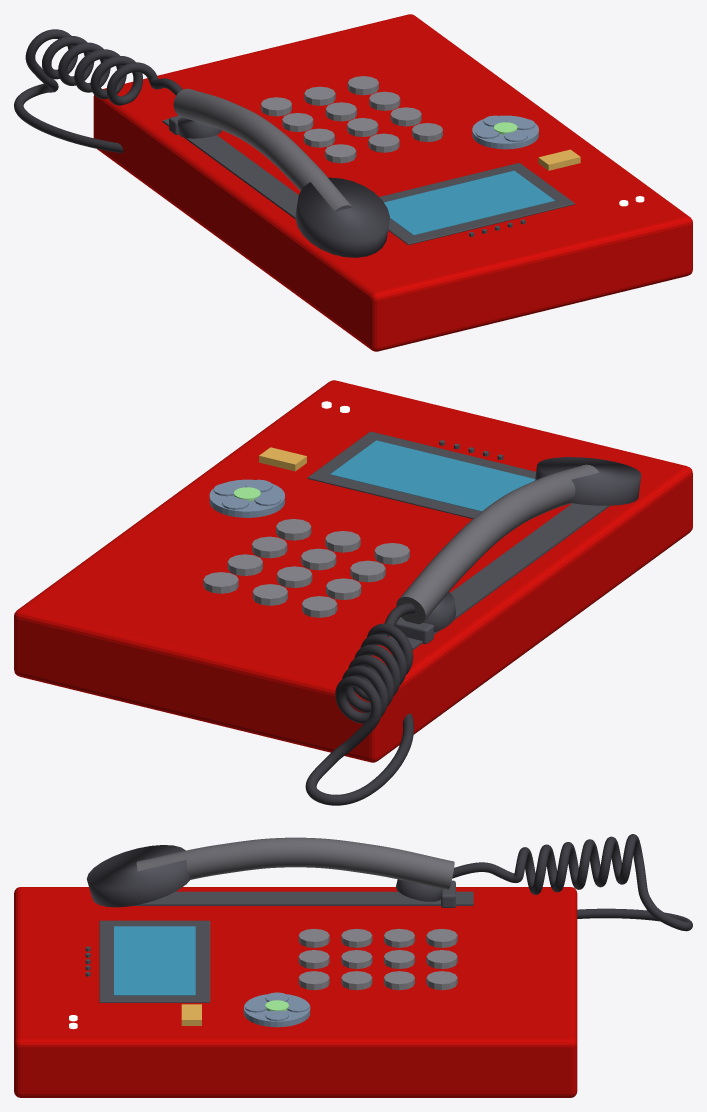
Rendered from telephone.fbx.
3 views of the same model, one above another, from view 1: azimuth 30°, elevation 25°; view 2: azimuth 150°, elevation 25°; view 3: azimuth 270°, elevation 25° (orthographic). The views are drawn at different scales.
Parts seen in each view (by area): view 1: Phone_Body, Phone_Cord, Screen, Handset_Body, Earpiece_Face, Screen_Bezel, Cradle_Channel, Nav_Ring, Mouthpiece_Face, Btn_Message, Key_#, Key_0 (+10 smaller); view 2: Phone_Body, Phone_Cord, Handset_Body, Screen, Cradle_Channel, Screen_Bezel, Earpiece_Face, Nav_Ring, Btn_Message, Mouthpiece_Face, Key_4, Key_* (+10 smaller); view 3: Phone_Body, Handset_Body, Phone_Cord, Screen, Earpiece_Face, Cradle_Channel, Screen_Bezel, Nav_Ring, Mouthpiece_Face, Key_4, Key_0, Key_1 (+10 smaller).
Part boxes in pixels (bbox=[...]): Phone_Body: bbox=[93, 14, 692, 351]; Phone_Cord: bbox=[14, 29, 182, 153]; Screen: bbox=[384, 170, 554, 235]; Handset_Body: bbox=[173, 88, 352, 211]; Earpiece_Face: bbox=[295, 177, 389, 257]; Screen_Bezel: bbox=[379, 163, 574, 245]; Cradle_Channel: bbox=[162, 119, 298, 218]; Nav_Ring: bbox=[472, 115, 538, 149]; Mouthpiece_Face: bbox=[177, 117, 221, 138]; Btn_Message: bbox=[538, 149, 580, 170]; Key_#: bbox=[347, 76, 378, 95]; Key_0: bbox=[304, 86, 335, 105]; Phone_Body: bbox=[14, 380, 692, 762]; Phone_Cord: bbox=[305, 603, 415, 805]; Handset_Body: bbox=[396, 464, 599, 624]; Screen: bbox=[330, 440, 535, 511]; Cradle_Channel: bbox=[390, 503, 609, 649]; Screen_Bezel: bbox=[307, 431, 535, 518]; Earpiece_Face: bbox=[535, 457, 641, 505]; Nav_Ring: bbox=[209, 479, 284, 517]; Btn_Message: bbox=[259, 447, 306, 471]; Mouthpiece_Face: bbox=[422, 592, 455, 631]; Key_4: bbox=[252, 536, 287, 558]; Key_*: bbox=[302, 596, 337, 617]; Phone_Body: bbox=[14, 887, 577, 1097]; Handset_Body: bbox=[136, 837, 454, 890]; Phone_Cord: bbox=[452, 834, 692, 931]; Screen: bbox=[114, 926, 195, 995]; Earpiece_Face: bbox=[87, 845, 191, 907]; Cradle_Channel: bbox=[133, 891, 473, 905]; Screen_Bezel: bbox=[99, 920, 210, 1002]; Nav_Ring: bbox=[243, 994, 310, 1027]; Mouthpiece_Face: bbox=[396, 879, 442, 901]; Key_4: bbox=[341, 971, 372, 990]; Key_0: bbox=[426, 950, 457, 968]; Key_1: bbox=[298, 971, 329, 990].
Bounding box in the file's own units: 111 × 36.62 × 183.
